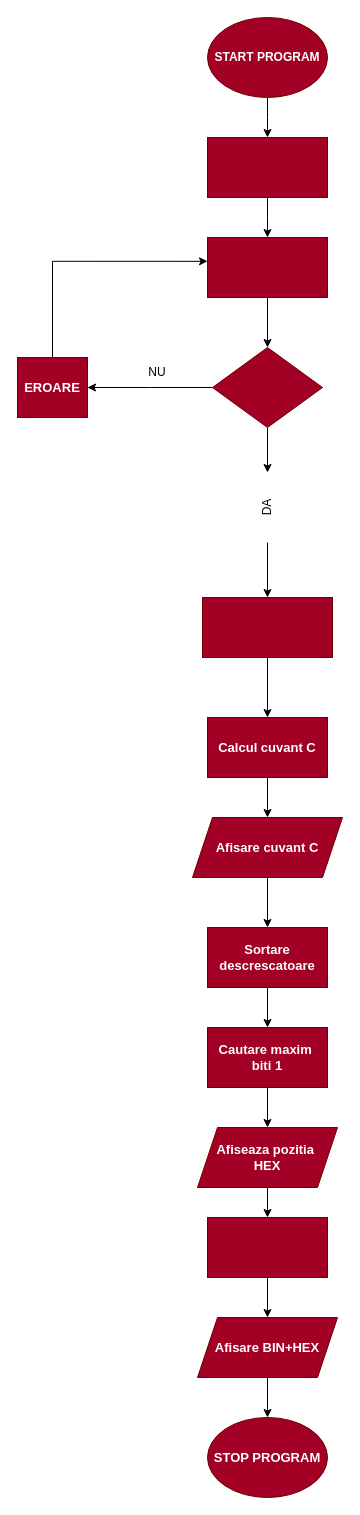
The diagram is 360 pixels wide and 1515 high, and some of its shapes have lost their labels. Each missing label, with the box of its shape:
Afisare mesaj + cit ire: (206, 236, 328, 298)
Conversie ASCII --> octeti binar i: (202, 596, 332, 658)
Initializare segment de date: (206, 136, 328, 198)
Input valid?: (212, 346, 322, 428)
Rotiri: (206, 1216, 328, 1278)
